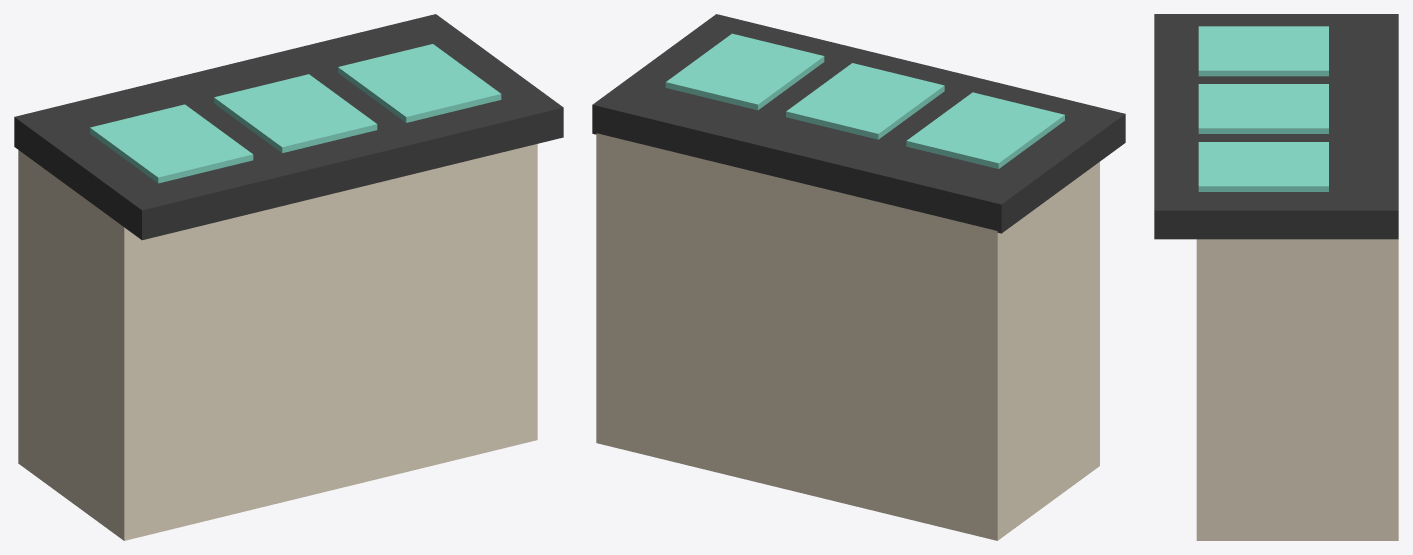
The picture shows the model from 3 angles, left to right: view 1: azimuth 30°, elevation 25°; view 2: azimuth 150°, elevation 25°; view 3: azimuth 270°, elevation 25°; orthographic projection. The views are drawn at different scales.
Visible parts, largest first — view 1: Console, Panel, Readout, Readout.001, Readout.002; view 2: Console, Panel, Readout.002, Readout.001, Readout; view 3: Console, Panel, Readout, Readout.001, Readout.002.
Boxes of the visible parts, x1,y1,x2,y2 form: Console: [18, 144, 537, 540]; Panel: [14, 14, 563, 240]; Readout: [90, 104, 253, 183]; Readout.001: [214, 74, 377, 153]; Readout.002: [338, 44, 501, 122]; Console: [596, 133, 1099, 540]; Panel: [592, 14, 1125, 233]; Readout.002: [665, 33, 824, 110]; Readout.001: [786, 63, 944, 139]; Readout: [906, 92, 1064, 168]; Console: [1196, 239, 1398, 540]; Panel: [1154, 14, 1398, 239]; Readout: [1198, 26, 1328, 76]; Readout.001: [1198, 84, 1328, 133]; Readout.002: [1198, 142, 1328, 191].
Bounding box in the file's own units: 133 × 106 × 69.6.
